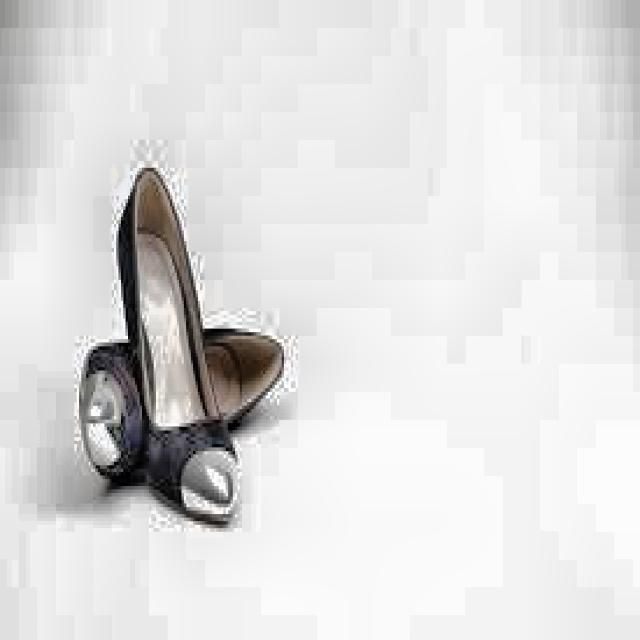shoes: (75, 163, 286, 526)
